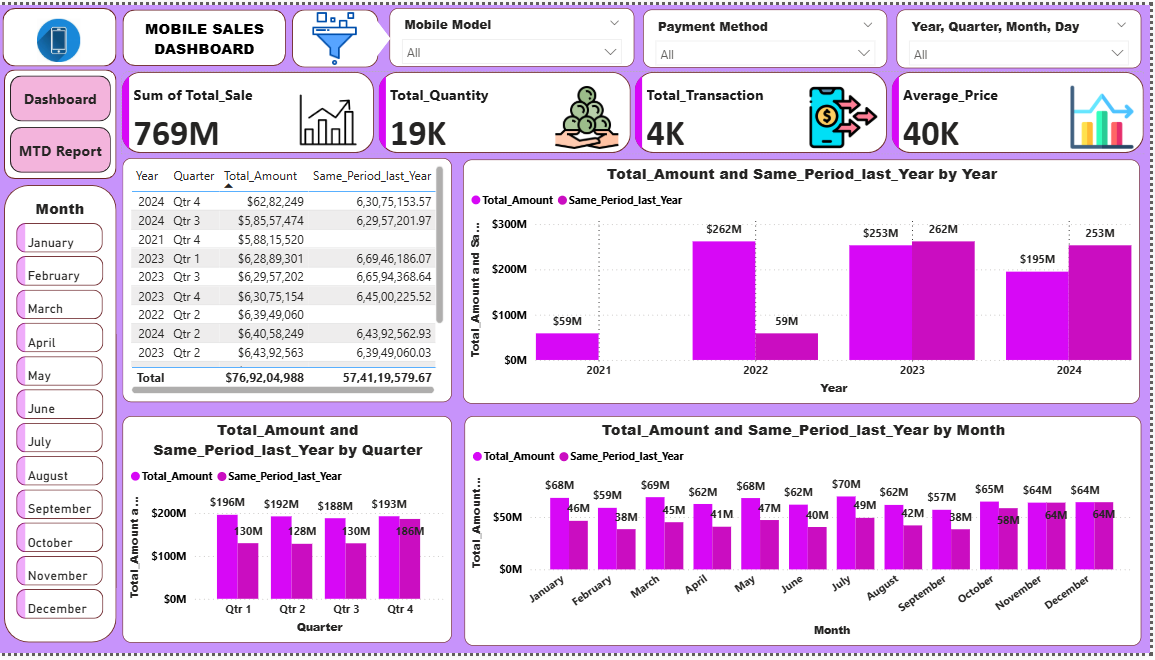

The dashboard page shown, as its layout file describes it:
{"tool":"powerbi","page":{"name":"Same Period Last Year","canvas":[1280,720],"ordinal":2},"visuals":[{"type":"shape","box":[5,3.3,126.7,65],"z":0},{"type":"image","box":[16.7,10,101.7,58.3],"z":1000},{"type":"shape","box":[6.7,200,125,508.3],"z":2000,"group":"g1"},{"type":"shape","box":[6.7,71.7,125,121.7],"z":2000},{"type":"cardVisual","fields":{"Data":["Sum(Raw_Data.Total_Sale)","Raw_Data.Total_Quantity","Raw_Data.Total_Transaction","Raw_Data.Average_Price"]},"box":[130.9,67.9,1149.6,102.7],"z":3000},{"type":"slicer","fields":{"Values":["Raw_Data.Mobile Model"]},"box":[435,3.3,271.7,65],"z":4000},{"type":"advancedSlicerVisual","fields":{"Values":["custom_calendar.Date.Variation.Date Hierarchy.Month"]},"box":[14.9,215.3,107.7,477.1],"z":4000,"group":"g1"},{"type":"slicer","fields":{"Values":["Raw_Data.Payment Method"]},"box":[717.3,5,271.7,64.6],"z":5000},{"type":"slicer","fields":{"Values":["custom_calendar.Date.Variation.Date Hierarchy.Year","custom_calendar.Date.Variation.Date Hierarchy.Quarter","custom_calendar.Date.Variation.Date Hierarchy.Month","custom_calendar.Date.Variation.Date Hierarchy.Day"]},"box":[998.1,5,271.7,65],"z":6000},{"type":"shape","box":[326.3,5,96.1,64.6],"z":7000},{"type":"image","box":[331.3,1.7,84.5,71.2],"z":8000},{"type":"shape","box":[404.2,16.6,31.5,41.4],"z":9000},{"type":"shape","box":[139.1,5,182.2,62.9],"z":10000},{"type":"textbox","box":[154.1,9.9,152.4,56.3],"z":11000},{"type":"group","id":"g1","title":"Group 1","box":[6.7,200,125,508.3],"z":12000},{"type":"tableEx","fields":{"Values":["custom_calendar.Date.Variation.Date Hierarchy.Year","custom_calendar.Date.Variation.Date Hierarchy.Quarter","Raw_Data.Total_Amount","Raw_Data.Same_Period_last_Year"]},"box":[139.1,170.6,366.1,271.7],"z":13000},{"type":"clusteredColumnChart","fields":{"Y":["Raw_Data.Total_Amount","Raw_Data.Same_Period_last_Year"],"Category":["custom_calendar.Date.Variation.Date Hierarchy.Month","custom_calendar.Date.Variation.Date Hierarchy.Day"]},"box":[518.5,457.2,752,255.1],"z":14000},{"type":"clusteredColumnChart","fields":{"Category":["custom_calendar.Date.Variation.Date Hierarchy.Year","custom_calendar.Date.Variation.Date Hierarchy.Quarter"],"Y":["Raw_Data.Total_Amount","Raw_Data.Same_Period_last_Year"]},"box":[516.8,172.3,752,271.7],"z":15000},{"type":"clusteredColumnChart","fields":{"Category":["custom_calendar.Date.Variation.Date Hierarchy.Year","custom_calendar.Date.Variation.Date Hierarchy.Quarter"],"Y":["Raw_Data.Total_Amount","Raw_Data.Same_Period_last_Year"]},"box":[139.1,457.2,366.1,251.8],"z":16000},{"type":"pageNavigator","box":[13.3,77.9,112.6,109.3],"z":17000}]}

Visuals, with their boxes in screenshot pixels (x1, y1, x2, y2), scaled from the page's 1280x720 canvas onto the 1155x660 screenshot:
shape: (x1=5, y1=3, x2=119, y2=63)
image: (x1=15, y1=9, x2=107, y2=63)
shape: (x1=6, y1=183, x2=119, y2=649)
shape: (x1=6, y1=66, x2=119, y2=177)
cardVisual - Sum(Raw_Data.Total_Sale) x Raw_Data.Total_Quantity: (x1=118, y1=62, x2=1154, y2=156)
slicer - Raw_Data.Mobile Model: (x1=393, y1=3, x2=638, y2=63)
advancedSlicerVisual - custom_calendar.Date.Variation.Date Hierarchy.Month: (x1=13, y1=197, x2=111, y2=635)
slicer - Raw_Data.Payment Method: (x1=647, y1=5, x2=892, y2=64)
slicer - custom_calendar.Date.Variation.Date Hierarchy.Year x custom_calendar.Date.Variation.Date Hierarchy.Quarter: (x1=901, y1=5, x2=1146, y2=64)
shape: (x1=294, y1=5, x2=381, y2=64)
image: (x1=299, y1=2, x2=375, y2=67)
shape: (x1=365, y1=15, x2=393, y2=53)
shape: (x1=126, y1=5, x2=290, y2=62)
textbox: (x1=139, y1=9, x2=277, y2=61)
"Group 1" group: (x1=6, y1=183, x2=119, y2=649)
tableEx - custom_calendar.Date.Variation.Date Hierarchy.Year x custom_calendar.Date.Variation.Date Hierarchy.Quarter: (x1=126, y1=156, x2=456, y2=405)
clusteredColumnChart - Raw_Data.Total_Amount x Raw_Data.Same_Period_last_Year: (x1=468, y1=419, x2=1146, y2=653)
clusteredColumnChart - custom_calendar.Date.Variation.Date Hierarchy.Year x custom_calendar.Date.Variation.Date Hierarchy.Quarter: (x1=466, y1=158, x2=1145, y2=407)
clusteredColumnChart - custom_calendar.Date.Variation.Date Hierarchy.Year x custom_calendar.Date.Variation.Date Hierarchy.Quarter: (x1=126, y1=419, x2=456, y2=650)
pageNavigator: (x1=12, y1=71, x2=114, y2=172)
